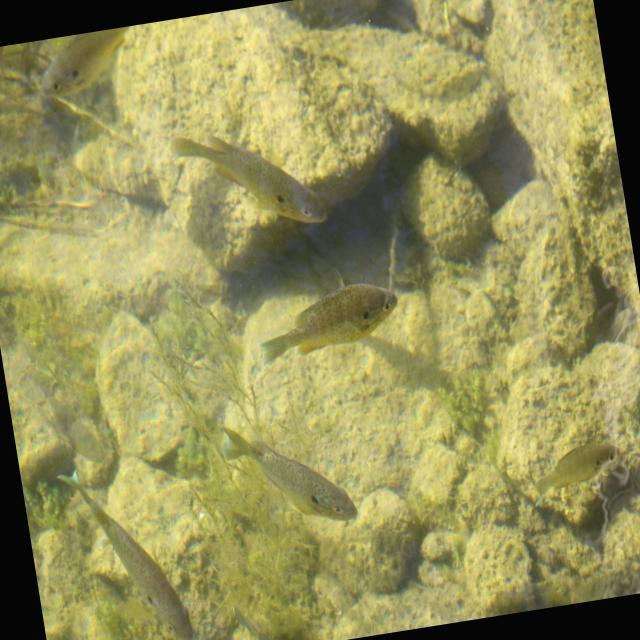Gunes Levregi: (54, 453, 196, 640), (166, 111, 330, 248), (216, 406, 360, 540), (246, 258, 406, 371), (523, 418, 625, 512)
